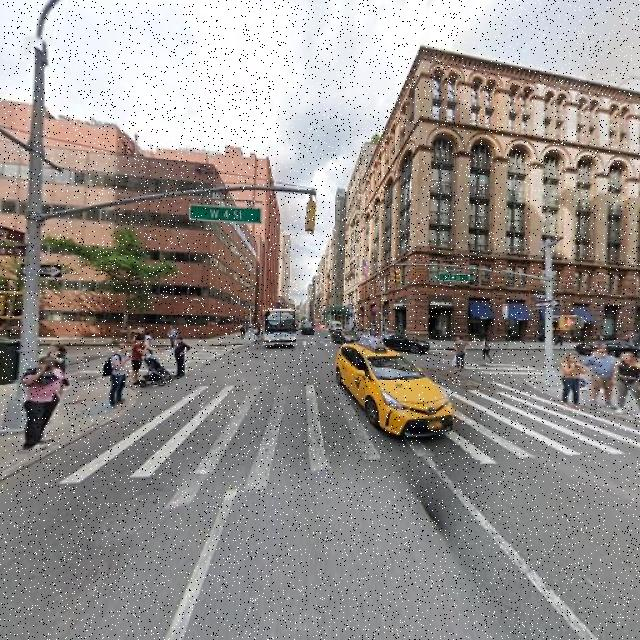Building: (345, 45, 640, 344), (1, 140, 257, 338)
